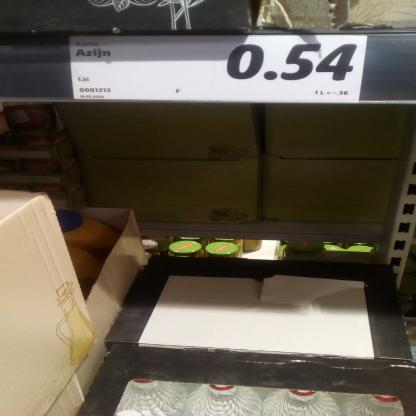prtg: (71, 36, 368, 103)
